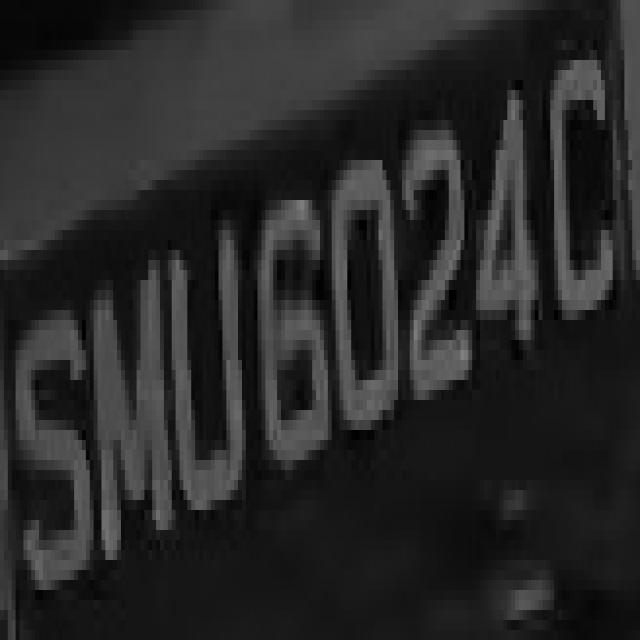0: (320, 120, 402, 480)
2: (378, 110, 468, 420)
4: (452, 70, 542, 380)
6: (246, 160, 332, 490)
C: (542, 30, 620, 330)
M: (74, 220, 168, 600)
S: (8, 260, 94, 630)
U: (164, 220, 246, 530)
